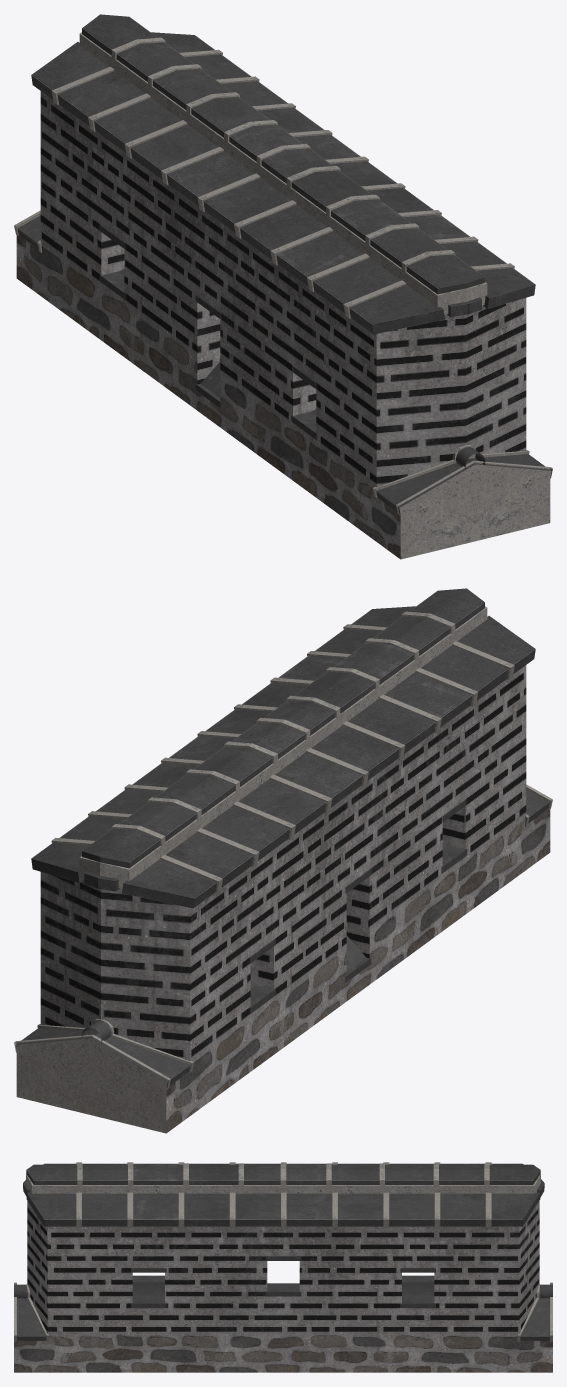
File: SM_Battlement03a.fbx
The picture shows the model from 3 angles, top to bottom: view 1: azimuth 30°, elevation 25°; view 2: azimuth 150°, elevation 25°; view 3: azimuth 270°, elevation 25°; orthographic projection. The views are drawn at different scales.
Parts seen in each view (by area): view 1: SM_Battlement03a; view 2: SM_Battlement03a; view 3: SM_Battlement03a.
Boxes of the visible parts, <box> form: SM_Battlement03a: <box>14,14,552,559</box>; SM_Battlement03a: <box>14,588,552,1133</box>; SM_Battlement03a: <box>14,1162,552,1372</box>.
Bounding box in the file's own units: 101 × 400 × 146.
1 material, 1 textured.
